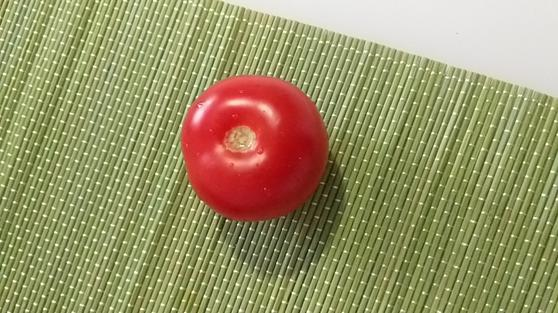tomato: (179, 73, 329, 217)
